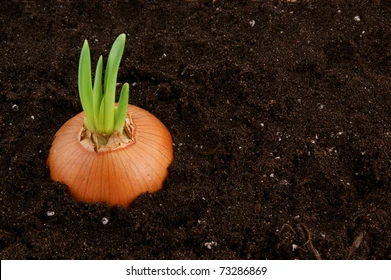onion: (46, 40, 179, 210)
